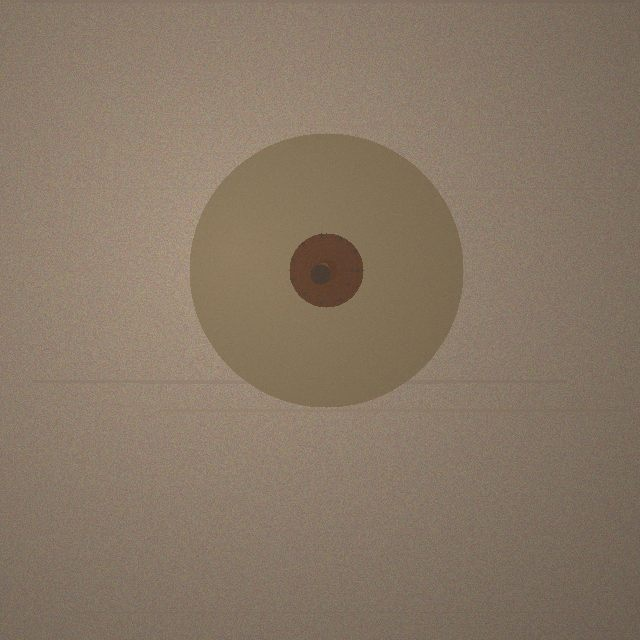cold_weld: (189, 133, 463, 407)
